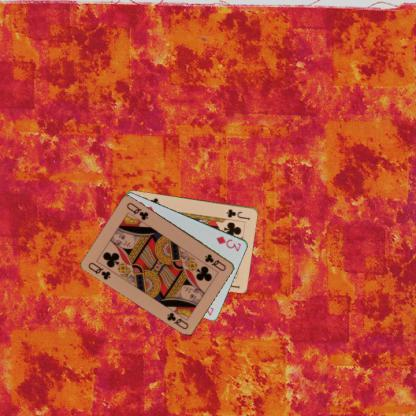3d: (214, 234, 242, 252)
Jc: (224, 206, 252, 221)
Qc: (86, 259, 112, 281), (202, 251, 228, 272)
